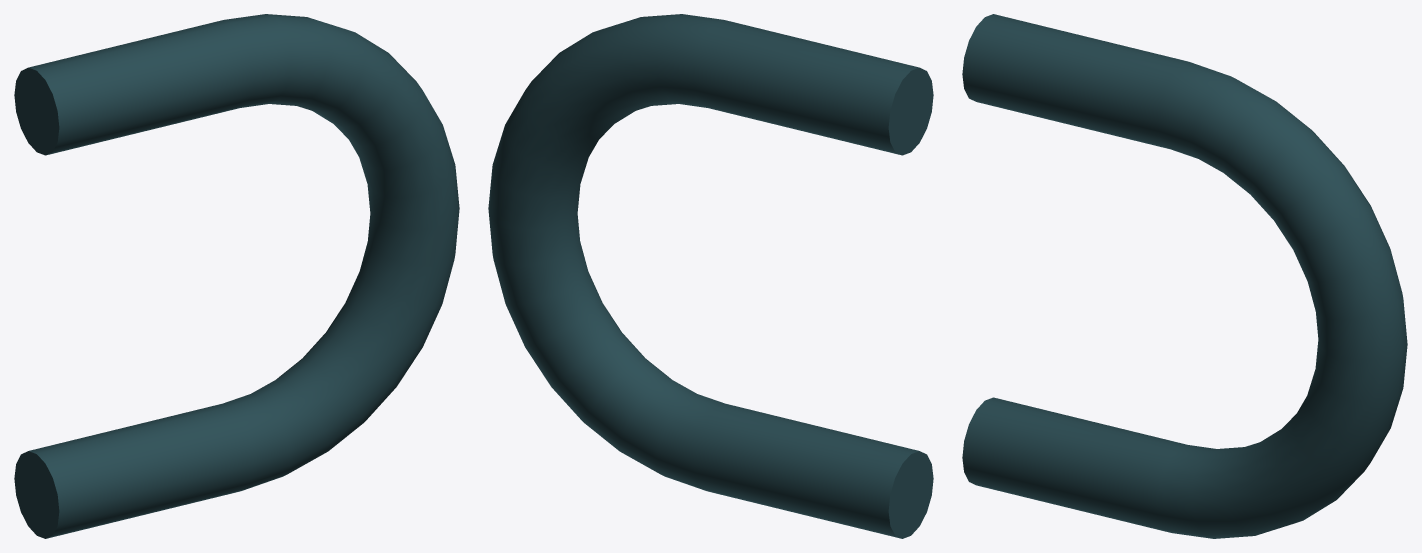
The model's file is city_quay_furniture_02_end.glb.
3 renders of one model, left to right at view 1: azimuth 30°, elevation 25°; view 2: azimuth 150°, elevation 25°; view 3: azimuth 330°, elevation 25°, orthographic.
Visible parts, largest first — view 1: CityQuayFurniture02_end_Mesh; view 2: CityQuayFurniture02_end_Mesh; view 3: CityQuayFurniture02_end_Mesh.
Part boxes in pixels (left/top/right/bottom): CityQuayFurniture02_end_Mesh: left=14, top=14, right=459, bottom=538; CityQuayFurniture02_end_Mesh: left=488, top=14, right=933, bottom=538; CityQuayFurniture02_end_Mesh: left=962, top=14, right=1407, bottom=538.
Bounding box in the file's own units: 0.535 × 0.57 × 0.1.
